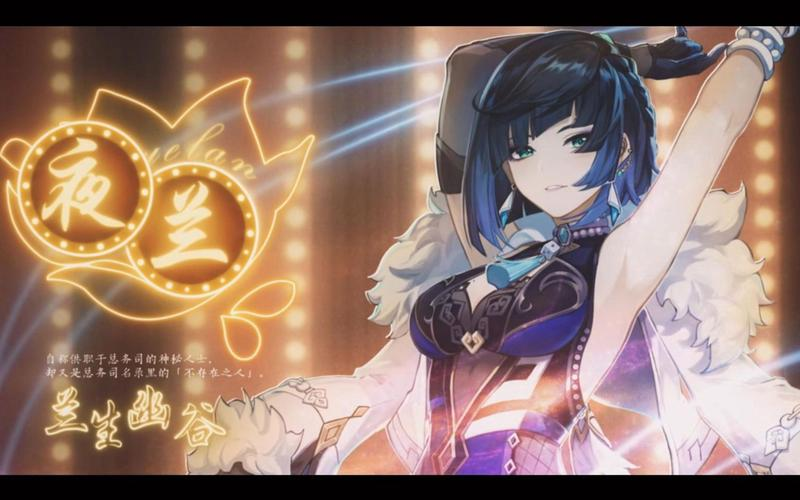夜兰: (405, 28, 787, 476)
